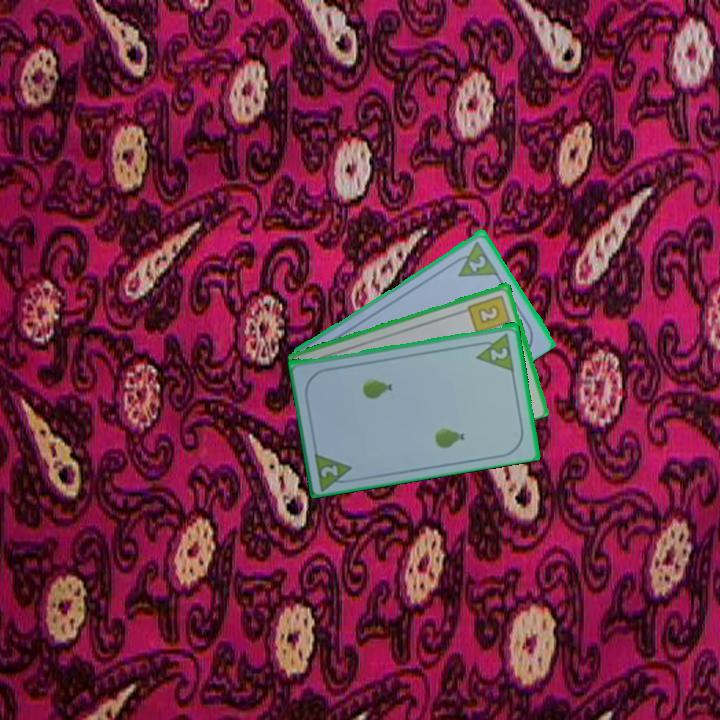2b: (465, 291, 514, 336)
2p: (465, 251, 489, 274), (487, 343, 511, 363), (317, 461, 341, 480)
